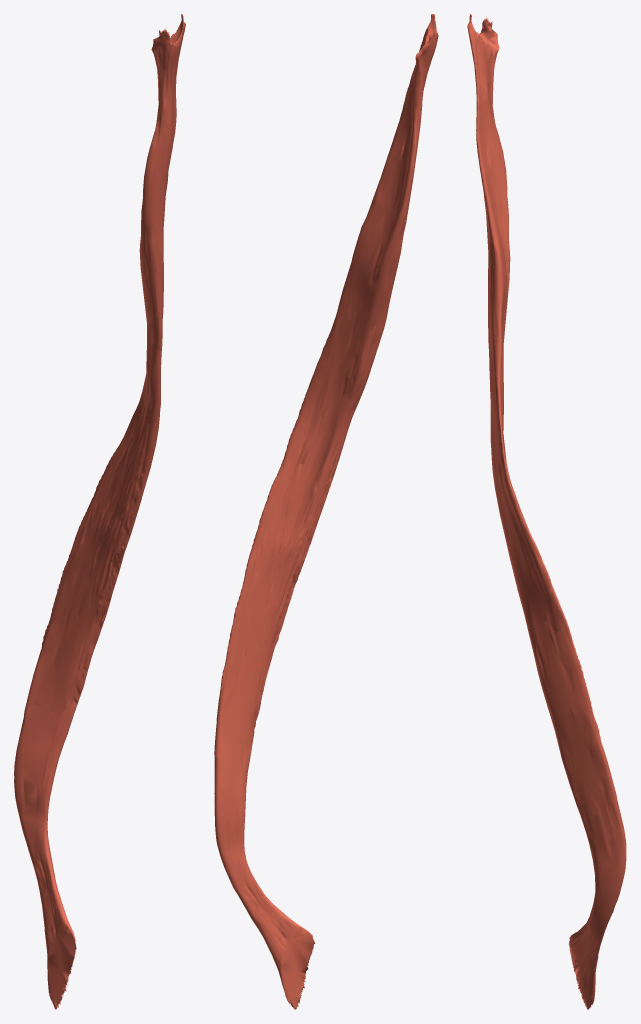
File: sartorius.glb
3 renders of one model, left to right at view 1: azimuth 90°, elevation 25°; view 2: azimuth 150°, elevation 25°; view 3: azimuth 270°, elevation 25°, orthographic. The views are drawn at different scales.
Visible parts, largest first — view 1: Sartorius muscle.r; view 2: Sartorius muscle.r; view 3: Sartorius muscle.r.
Boxes of the visible parts, box(x1,y1,x2,y2) form: Sartorius muscle.r: box(14, 14, 185, 1009); Sartorius muscle.r: box(214, 14, 438, 1009); Sartorius muscle.r: box(467, 14, 626, 1009).
Size of the model in its own units: 0.1032 by 0.5993 by 0.0901.
